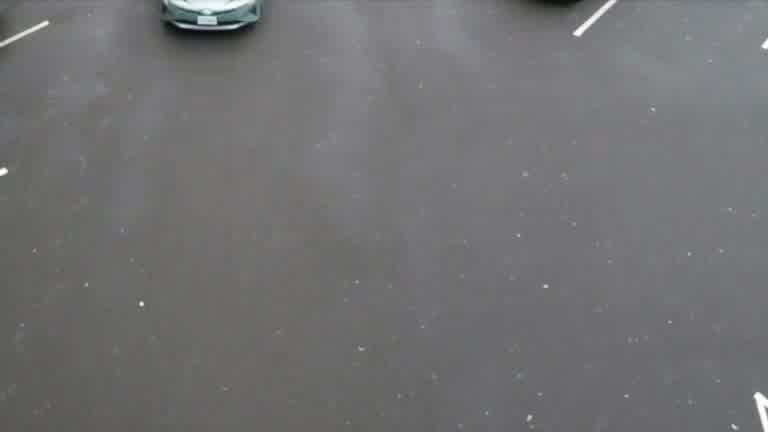car: (143, 0, 281, 57)
